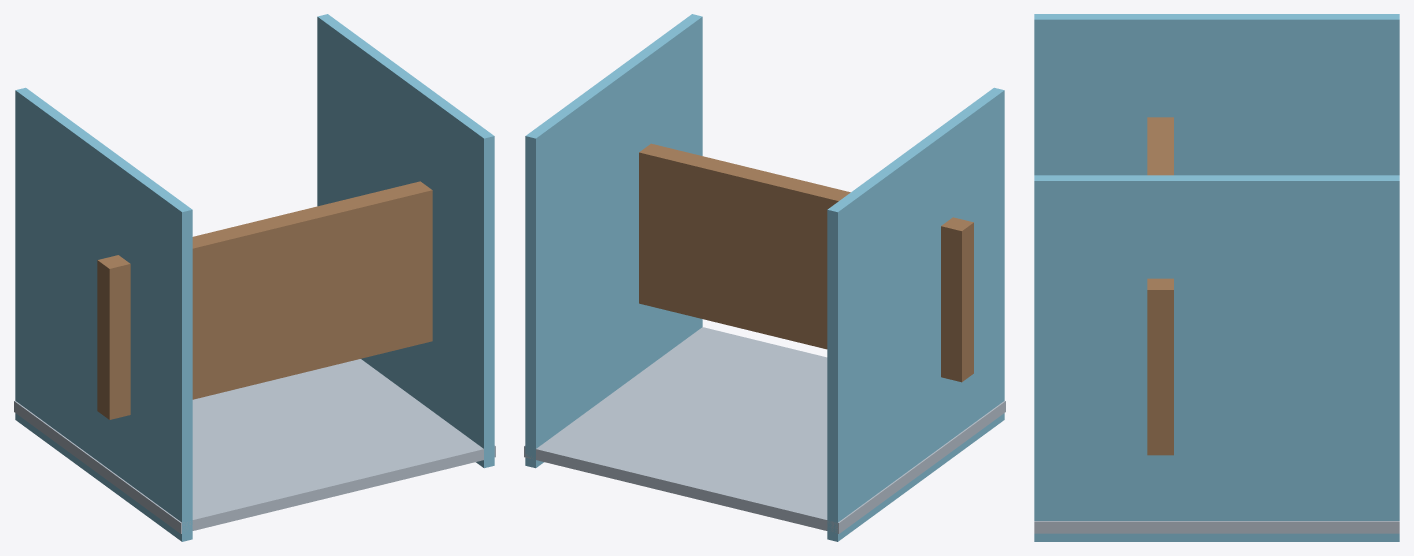
File: meeting_room.glb
The picture shows the model from 3 angles, left to right: view 1: azimuth 30°, elevation 25°; view 2: azimuth 150°, elevation 25°; view 3: azimuth 270°, elevation 25°; orthographic projection. The views are drawn at different scales.
Visible parts, largest first — view 1: glass_wall, table, glass_wall.001, back_wall; view 2: glass_wall, glass_wall.001, back_wall, table; view 3: glass_wall.001, glass_wall, table, back_wall.
Part boxes in pixels (left/top/right/bottom): glass_wall: left=15, top=87, right=192, bottom=541; table: left=97, top=181, right=432, bottom=419; glass_wall.001: left=317, top=14, right=494, bottom=468; back_wall: left=14, top=359, right=495, bottom=533; glass_wall: left=827, top=87, right=1004, bottom=541; glass_wall.001: left=525, top=14, right=702, bottom=468; back_wall: left=524, top=327, right=1005, bottom=533; table: left=639, top=143, right=973, bottom=382; glass_wall.001: left=1034, top=175, right=1399, bottom=541; glass_wall: left=1034, top=14, right=1399, bottom=175; table: left=1147, top=117, right=1173, bottom=455; back_wall: left=1034, top=521, right=1399, bottom=533.
Bounding box in the file's own units: 2.7 × 2.4 × 2.2.
